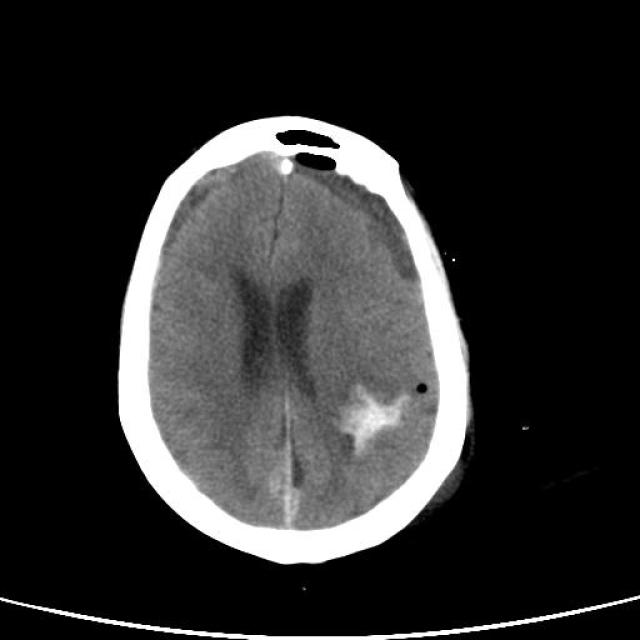Intraparenchymal: (308, 365, 438, 484)
Subdural: (252, 426, 316, 549)
